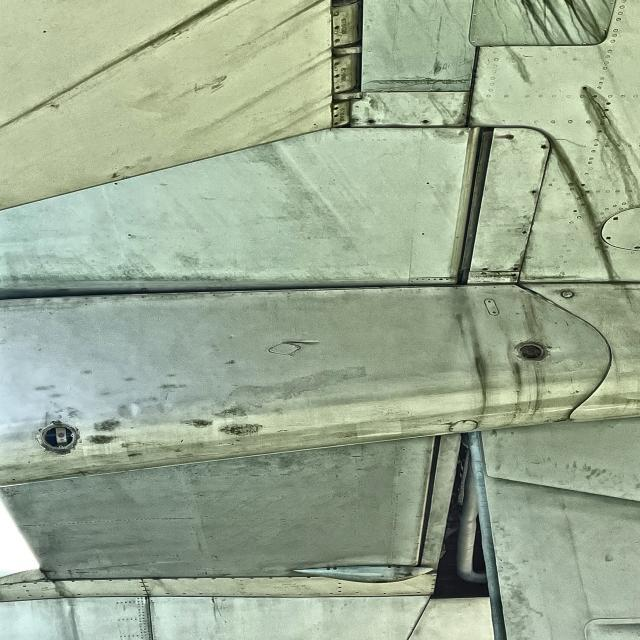crack: (279, 338, 322, 346)
